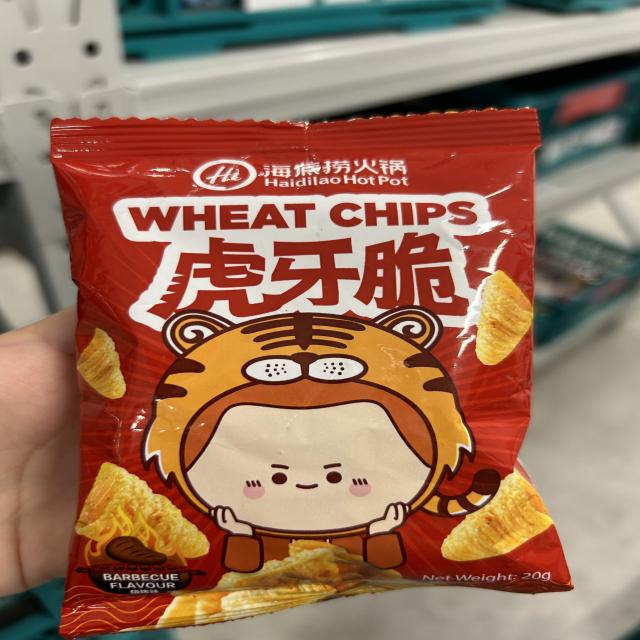object_name: (70, 127, 548, 597)
